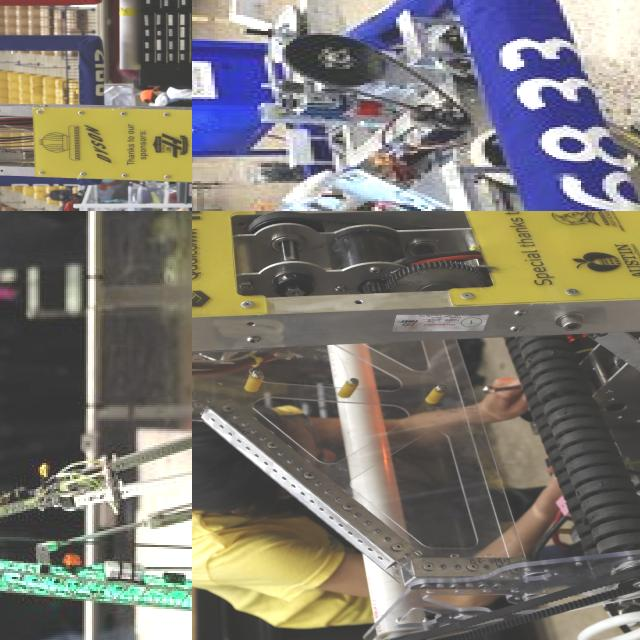FRC-Robots: (192, 211, 640, 640), (192, 0, 640, 211), (0, 256, 192, 640), (0, 0, 192, 211)
